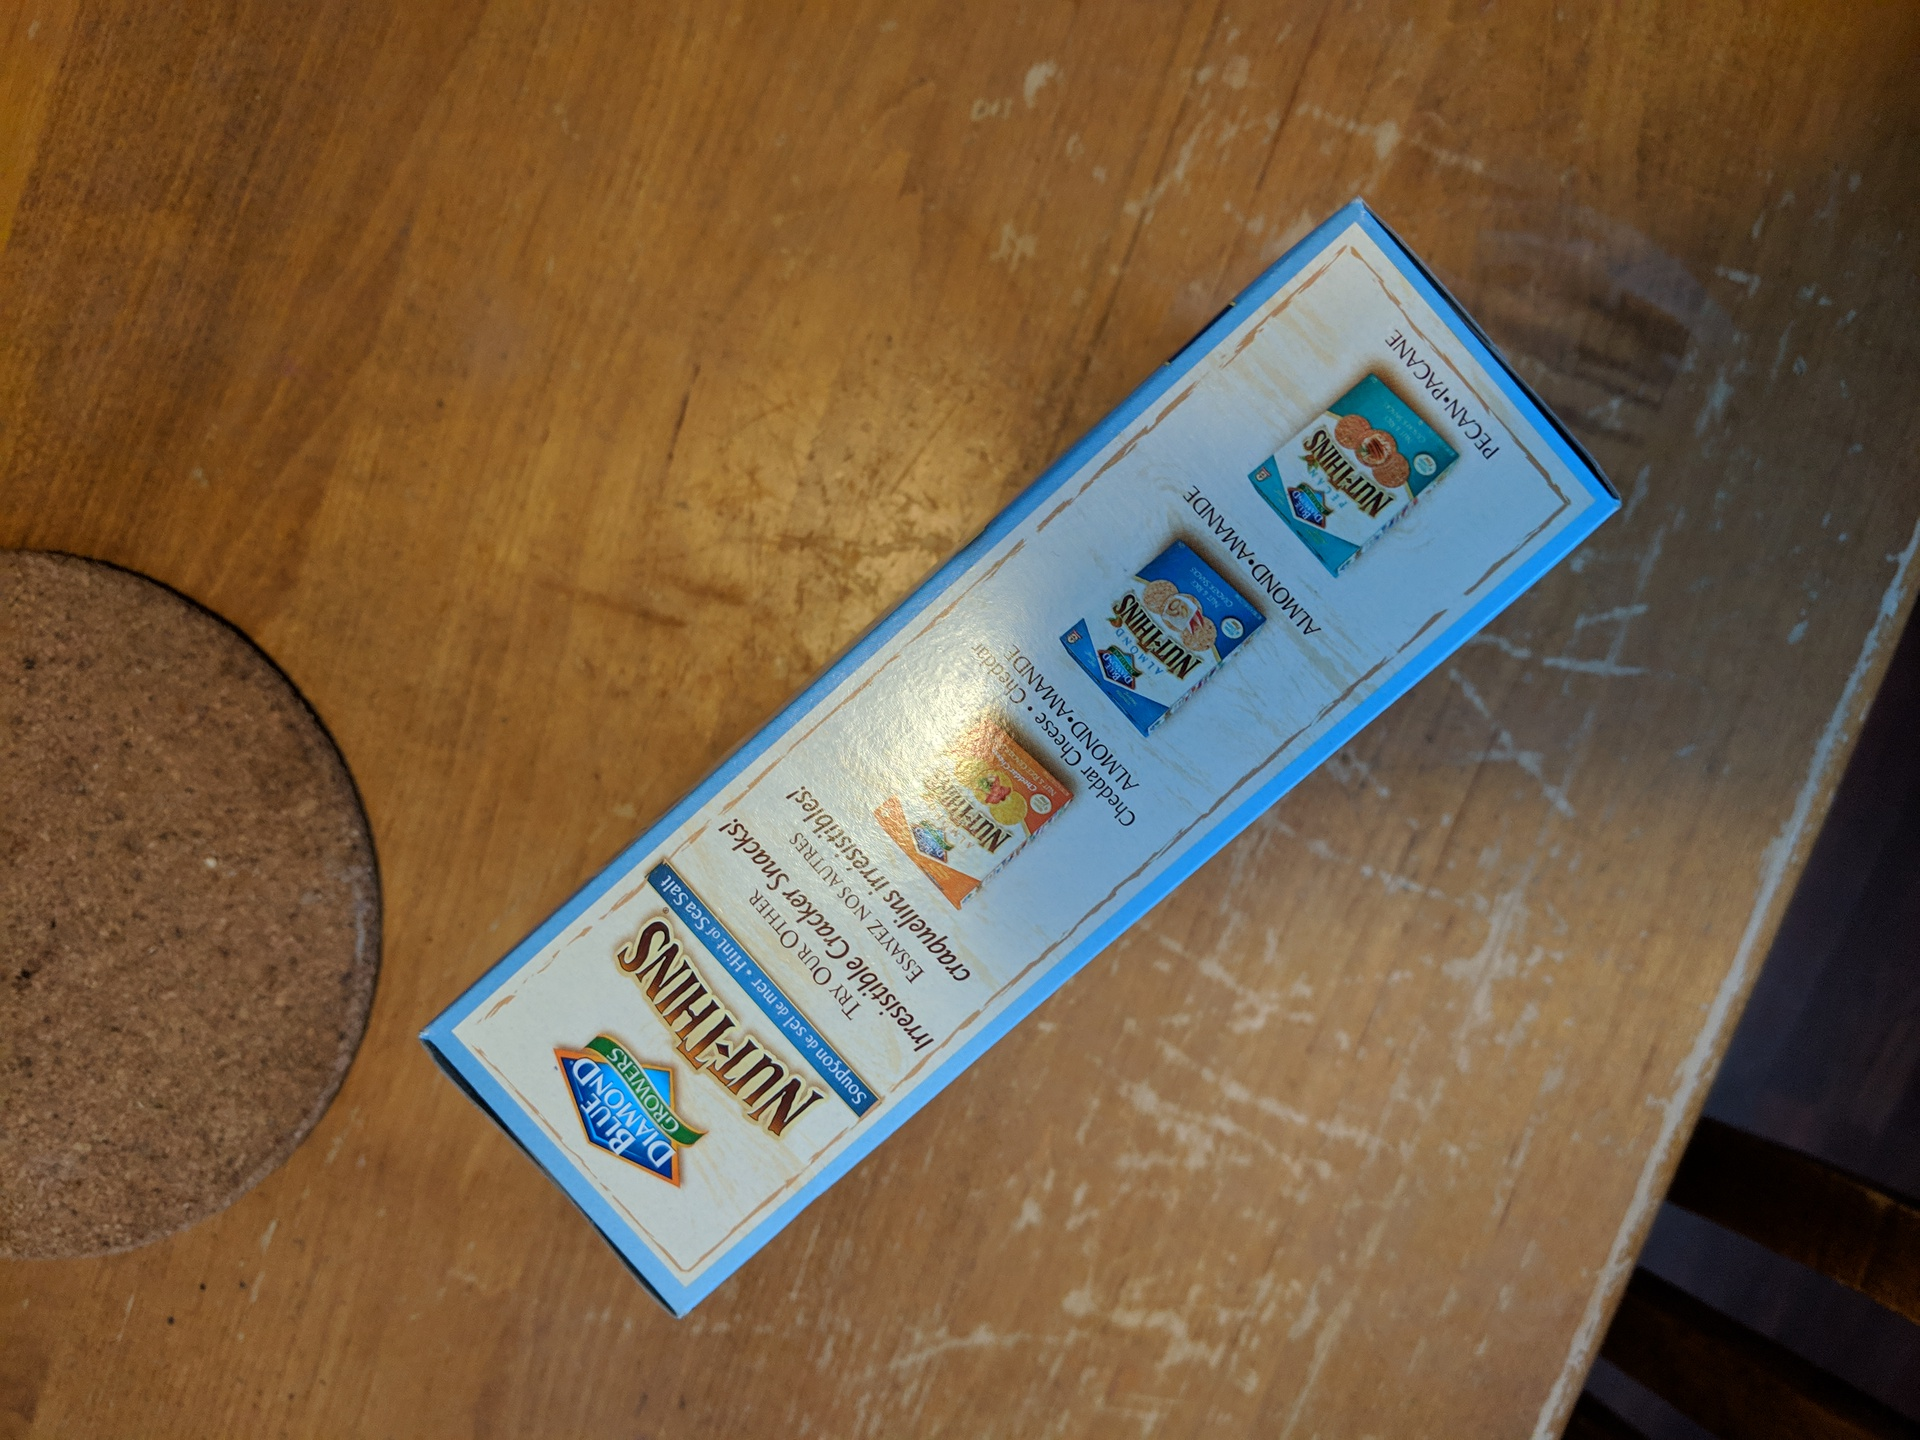blue_diamond_nut_thins_almond_seasalt: (534, 331, 1528, 1184)
